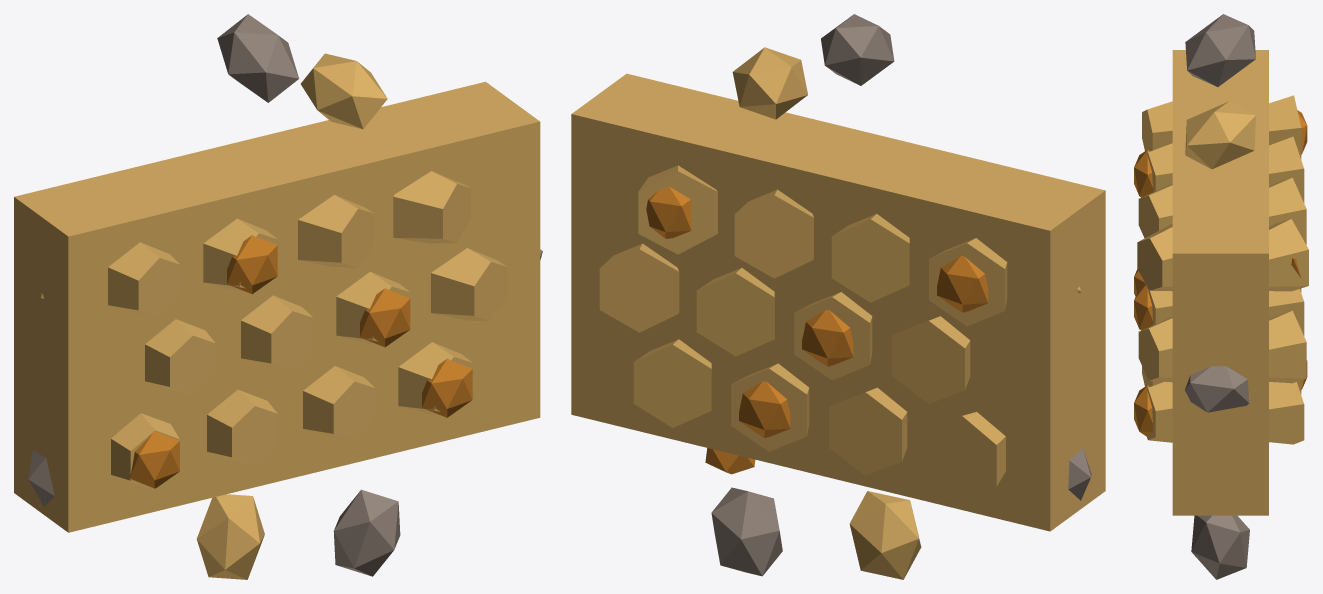
The model's file is pickup_honeycomb.glb.
3 renders of one model, left to right at view 1: azimuth 30°, elevation 25°; view 2: azimuth 150°, elevation 25°; view 3: azimuth 270°, elevation 25°, orthographic. The views are drawn at different scales.
Parts seen in each view (by area): view 1: Comb_Midrib, Comb_Cell_0_2_3, Comb_Tear_6, Comb_Cell_0_2_2, Comb_Cell_0_1_3, Comb_Tear_3, Comb_Tear_7, Comb_Tear_2, Comb_Cell_0_0_2, Comb_Cell_0_2_0, Comb_Cell_0_1_1, Comb_Cell_0_1_0 (+10 smaller); view 2: Comb_Midrib, Comb_Cell_1_1_3, Comb_Cell_1_2_2, Comb_Cell_1_0_3, Comb_Cell_1_2_1, Comb_Cell_1_1_2, Comb_Cell_1_1_0, Comb_Cell_1_0_1, Comb_Cell_1_0_0, Comb_Tear_7, Comb_Tear_6, Comb_Tear_2 (+11 smaller); view 3: Comb_Midrib, Comb_Tear_3, Comb_Tear_2, Comb_Tear_7, Comb_Cell_1_2_3, Comb_Cell_1_1_3, Comb_Tear_1, Comb_Cell_1_0_3, Comb_Cell_0_2_3, Comb_Cell_0_1_3, Comb_Cell_1_2_2, Comb_Cell_1_2_1 (+11 smaller).
Part boxes in pixels (x1,y1,x2,y2): Comb_Midrib: (14,81,540,532); Comb_Cell_0_2_3: (393,171,471,243); Comb_Tear_6: (196,494,264,579); Comb_Cell_0_2_2: (298,195,374,267); Comb_Cell_0_1_3: (431,248,507,320); Comb_Tear_3: (217,14,299,102); Comb_Tear_7: (333,489,400,576); Comb_Tear_2: (301,53,387,129); Comb_Cell_0_0_2: (303,366,375,440); Comb_Cell_0_2_0: (108,242,180,316); Comb_Cell_0_1_1: (241,295,313,370); Comb_Cell_0_1_0: (145,319,215,394); Comb_Midrib: (571,73,1105,531); Comb_Cell_1_1_3: (599,243,679,332); Comb_Cell_1_2_2: (734,189,813,278); Comb_Cell_1_0_3: (633,339,711,427); Comb_Cell_1_2_1: (831,214,909,302); Comb_Cell_1_1_2: (696,268,774,356); Comb_Cell_1_1_0: (892,316,970,404); Comb_Cell_1_0_1: (829,387,907,475); Comb_Cell_1_0_0: (927,412,1005,499); Comb_Tear_7: (711,487,782,576); Comb_Tear_6: (849,491,921,579); Comb_Tear_2: (732,47,807,119); Comb_Midrib: (1172,50,1268,515); Comb_Tear_3: (1185,14,1255,86); Comb_Tear_2: (1185,101,1255,169); Comb_Tear_7: (1191,515,1249,579); Comb_Cell_1_2_3: (1269,219,1308,291); Comb_Cell_1_1_3: (1269,310,1306,383); Comb_Tear_1: (1185,366,1249,412); Comb_Cell_1_0_3: (1269,382,1304,444); Comb_Cell_0_2_3: (1137,224,1172,291); Comb_Cell_0_1_3: (1138,317,1172,382); Comb_Cell_1_2_2: (1269,177,1306,244); Comb_Cell_1_2_1: (1269,136,1304,202).
Bounding box in the file's own units: 0.1826 × 0.2 × 0.0623.
